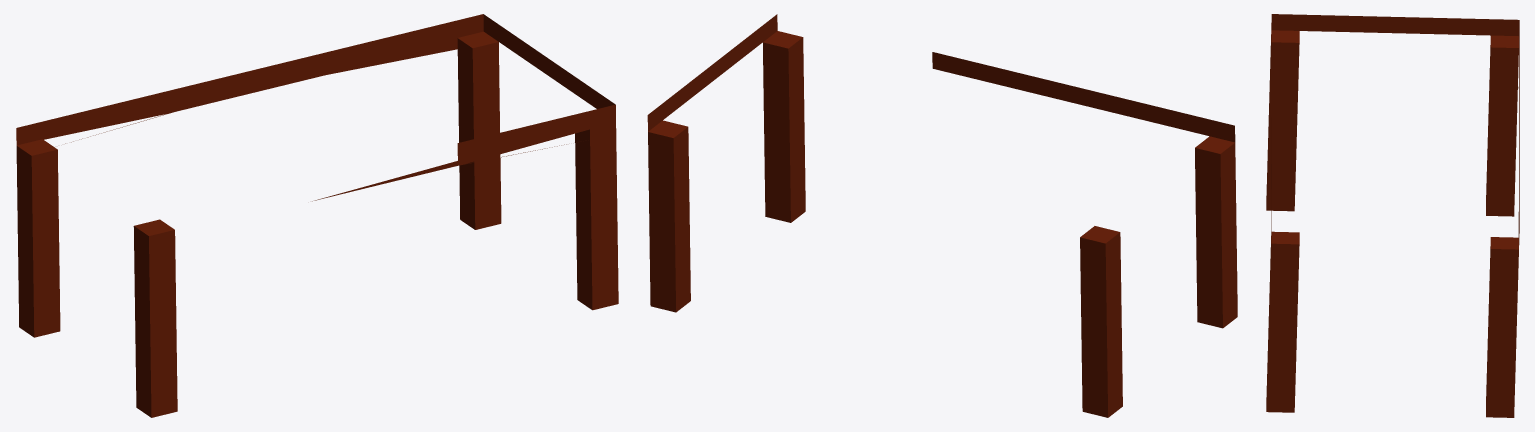
The model's file is mesa.fbx.
The picture shows the model from 3 angles, left to right: view 1: azimuth 30°, elevation 25°; view 2: azimuth 150°, elevation 25°; view 3: azimuth 270°, elevation 25°; orthographic projection. The views are drawn at different scales.
Parts seen in each view (by area): view 1: G_2bOn3Ufcr6hAqGdp6xcMmd1, G_2ffhufXkvADxTQov0J8In1_1, G_0JZDoWV39A1e7dqX0RbPyQ1, G_39K4Ji_Tj4tP55sRciWKS1_1, G_0_c42JsXj7e8a5I9EuIZ60_1; view 2: G_2bOn3Ufcr6hAqGdp6xcMmd1, G_0_c42JsXj7e8a5I9EuIZ60_1, G_39K4Ji_Tj4tP55sRciWKS1_1, G_0JZDoWV39A1e7dqX0RbPyQ1, G_2ffhufXkvADxTQov0J8In1_1; view 3: G_39K4Ji_Tj4tP55sRciWKS1_1, G_0JZDoWV39A1e7dqX0RbPyQ1, G_0_c42JsXj7e8a5I9EuIZ60_1, G_2ffhufXkvADxTQov0J8In1_1, G_2bOn3Ufcr6hAqGdp6xcMmd1.
Part boxes in pixels (x1,y1,x2,y2): G_2bOn3Ufcr6hAqGdp6xcMmd1: (16, 14, 615, 201); G_2ffhufXkvADxTQov0J8In1_1: (16, 139, 60, 337); G_0JZDoWV39A1e7dqX0RbPyQ1: (133, 219, 177, 417); G_39K4Ji_Tj4tP55sRciWKS1_1: (575, 122, 618, 310); G_0_c42JsXj7e8a5I9EuIZ60_1: (457, 31, 501, 229); G_2bOn3Ufcr6hAqGdp6xcMmd1: (647, 14, 1235, 142); G_0_c42JsXj7e8a5I9EuIZ60_1: (648, 120, 690, 312); G_39K4Ji_Tj4tP55sRciWKS1_1: (763, 31, 805, 222); G_0JZDoWV39A1e7dqX0RbPyQ1: (1195, 136, 1237, 328); G_2ffhufXkvADxTQov0J8In1_1: (1080, 226, 1122, 417); G_39K4Ji_Tj4tP55sRciWKS1_1: (1266, 231, 1299, 412); G_0JZDoWV39A1e7dqX0RbPyQ1: (1266, 30, 1299, 211); G_0_c42JsXj7e8a5I9EuIZ60_1: (1486, 237, 1518, 417); G_2ffhufXkvADxTQov0J8In1_1: (1486, 35, 1518, 216); G_2bOn3Ufcr6hAqGdp6xcMmd1: (1271, 14, 1519, 244).
Size of the model in its own units: 1.97 by 0.818 by 0.9886.
